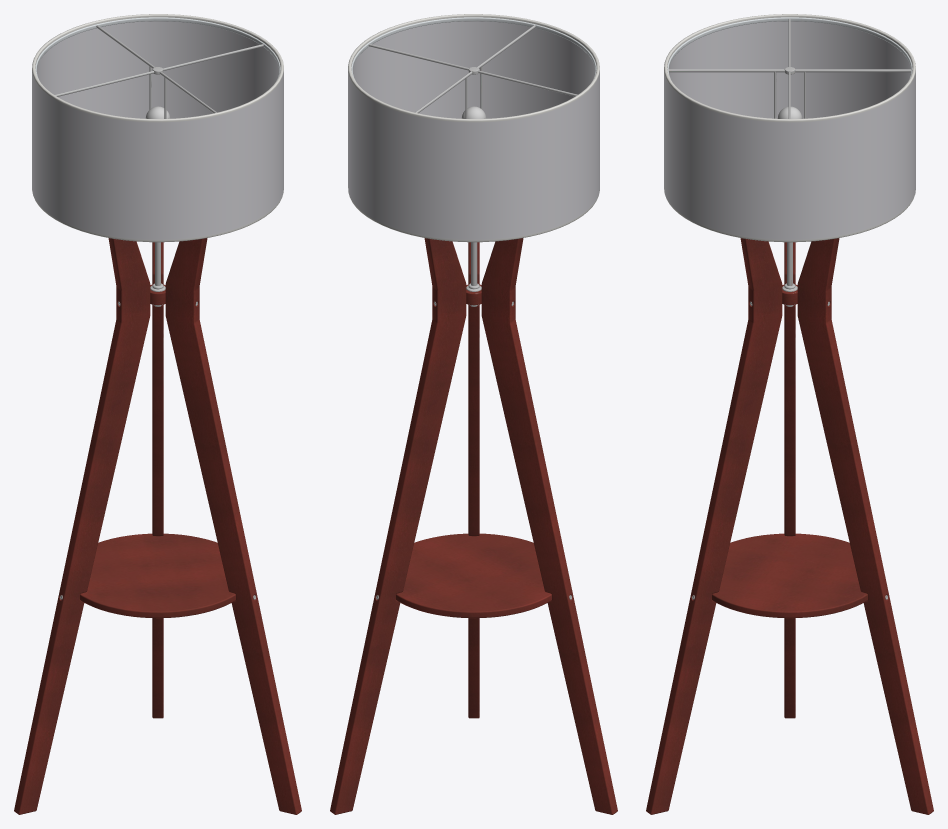
The model's file is lamp_B073P2CP5G.glb.
3 views of the same model, side by side, from view 1: azimuth 30°, elevation 25°; view 2: azimuth 150°, elevation 25°; view 3: azimuth 270°, elevation 25° (orthographic).
Parts seen in each view (by area): view 1: RootNode; view 2: RootNode; view 3: RootNode.
Part boxes in pixels (bbox=[...]): RootNode: bbox=[14, 14, 301, 814]; RootNode: bbox=[330, 14, 617, 814]; RootNode: bbox=[646, 14, 933, 814].
Bounding box in the file's own units: 0.5423 × 1.47 × 0.5391.
Materials: 1 (1 with a texture image).
